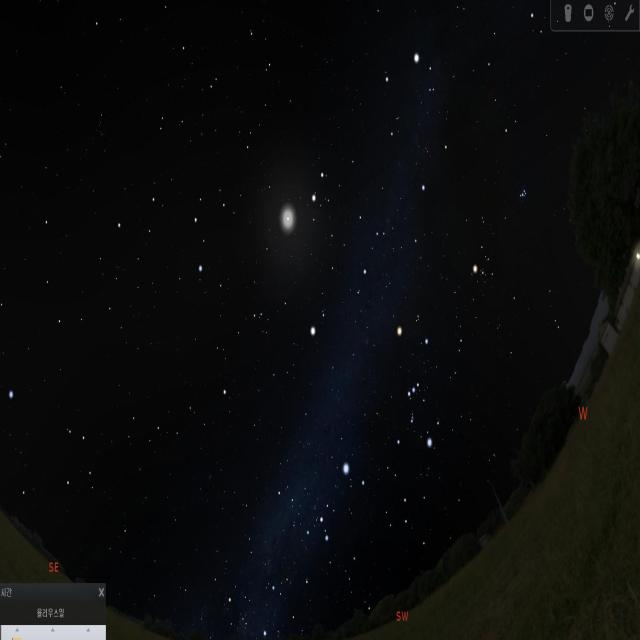canis_major: (309, 460, 372, 545)
canis_minor: (306, 298, 334, 356)
gemini: (308, 150, 399, 294)
leo: (99, 165, 230, 286)
moon: (270, 191, 306, 252)
orion: (384, 319, 440, 460)
pleiades: (513, 180, 531, 208)
taurus: (465, 169, 542, 297)
